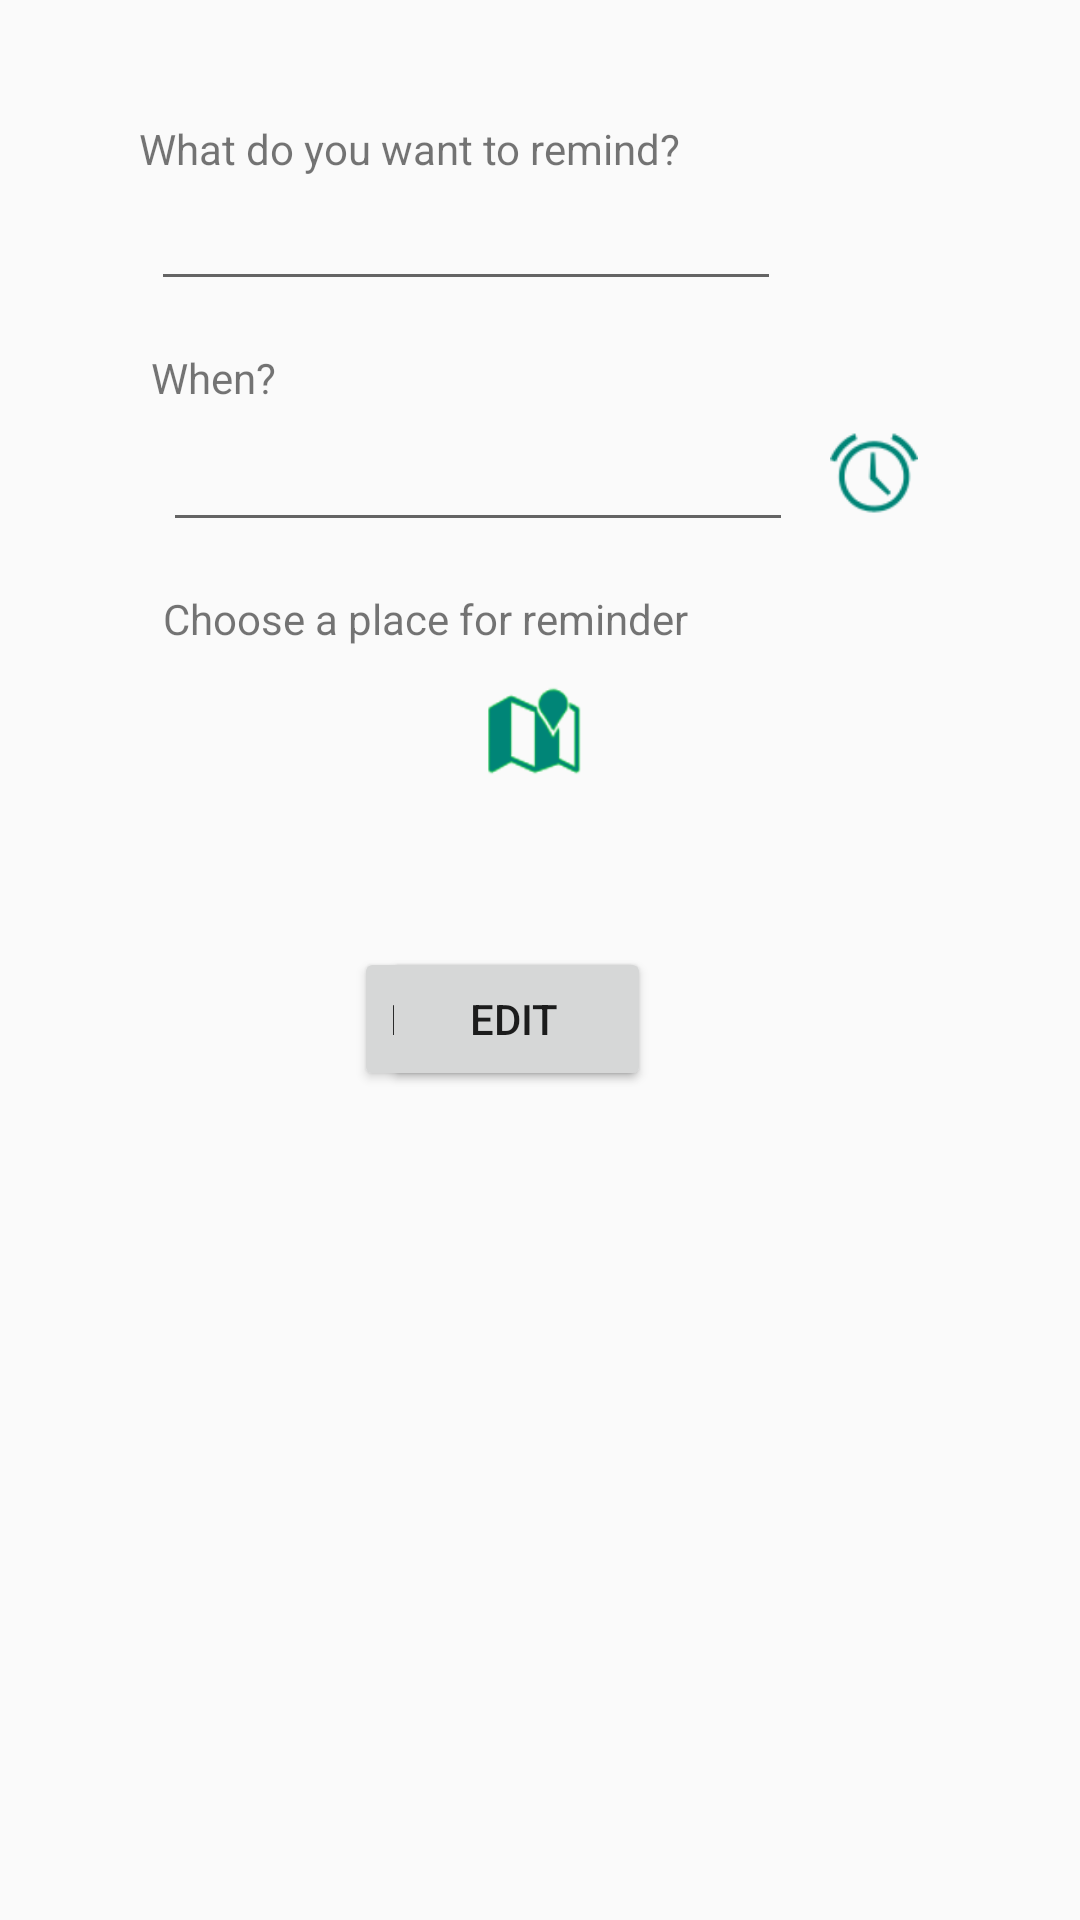

Locate icon controls on the screen. Image size 1080w x 1920h, boxes as (x1, y1, x2, y2).
lock idle alarm: (830, 433, 918, 513)
